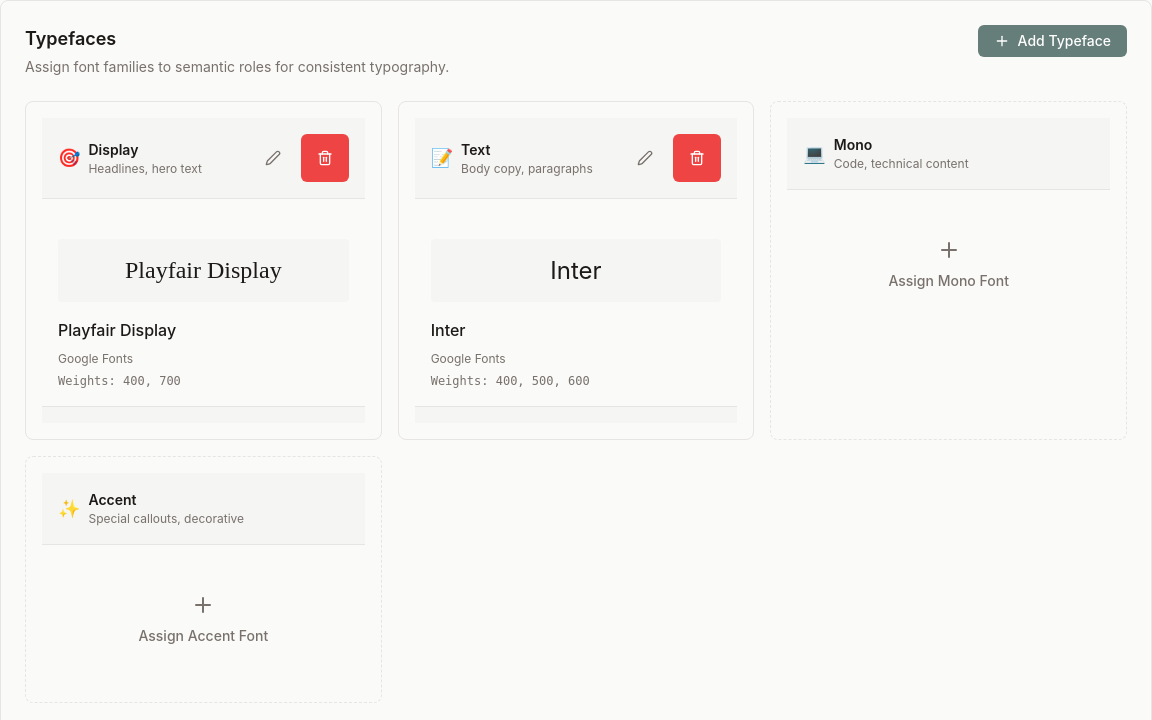
Test: TypefaceManager › edit opens modal
Note: Click edit button on the first typeface
Step 1. Click the button named "Edit typeface" next to "Headlines, hero text" → (273, 158), box [249,134,297,182]
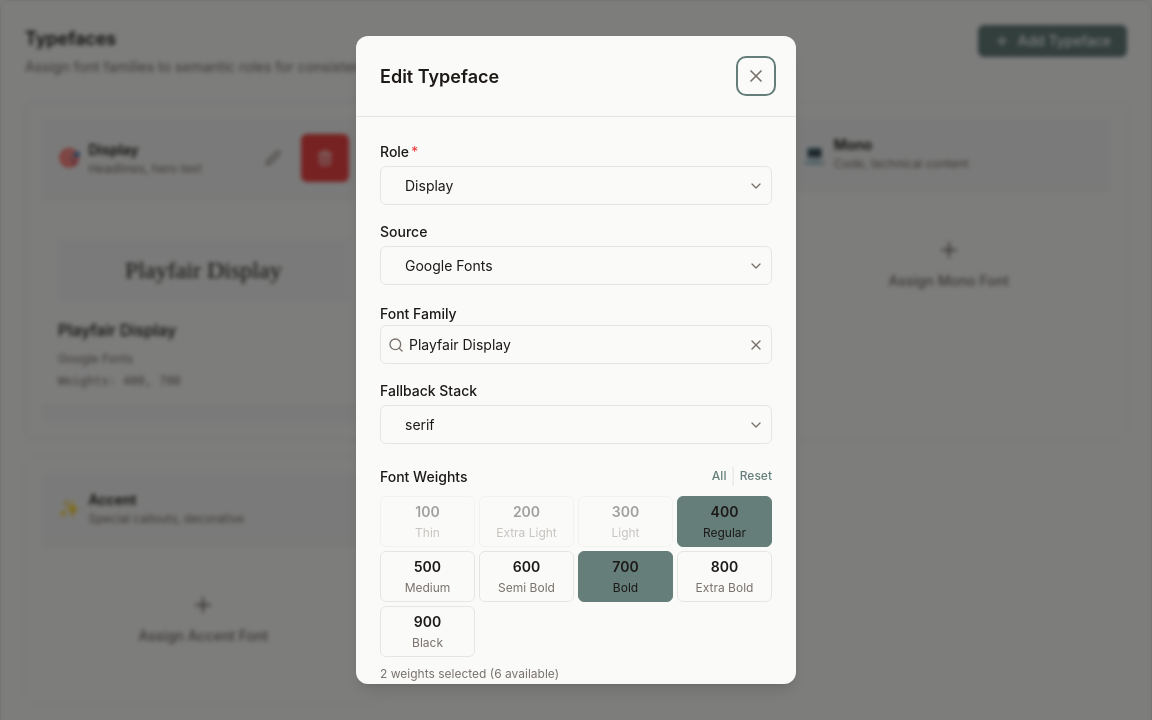
expect the heading "Edit Typeface" is shown: met, box [380,62,499,90]
